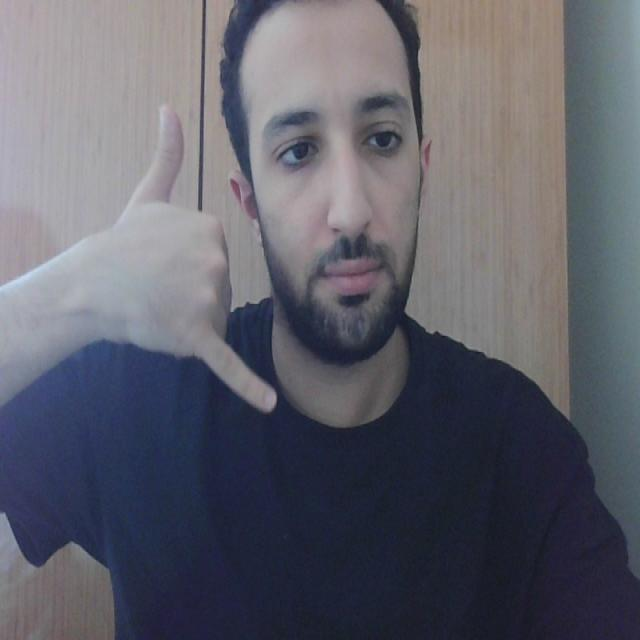Telefon: (134, 90, 290, 418)
